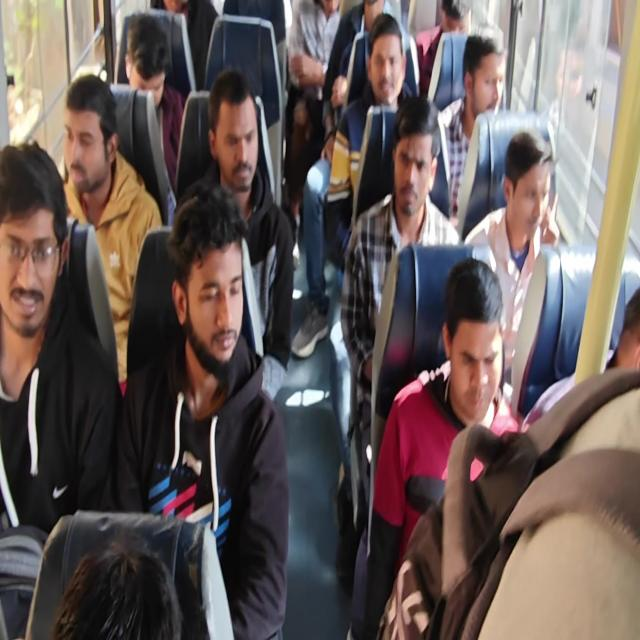person: (58, 535, 156, 640), (0, 193, 69, 341), (55, 89, 121, 211), (453, 306, 519, 428), (179, 267, 247, 385), (207, 87, 261, 193), (384, 111, 434, 219), (507, 141, 558, 243), (124, 36, 176, 121), (466, 46, 506, 121), (371, 34, 403, 103), (432, 0, 474, 28), (345, 0, 391, 16)
